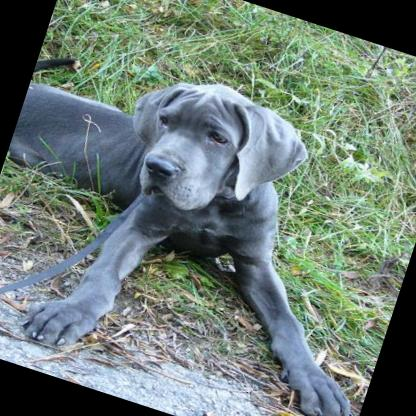Great_Dane: (0, 23, 416, 416)
